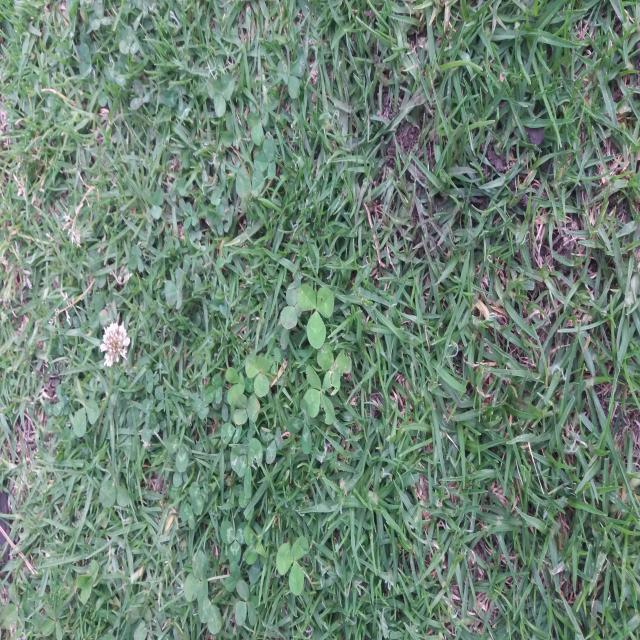Four Leaf Clover: (303, 364, 340, 425)
